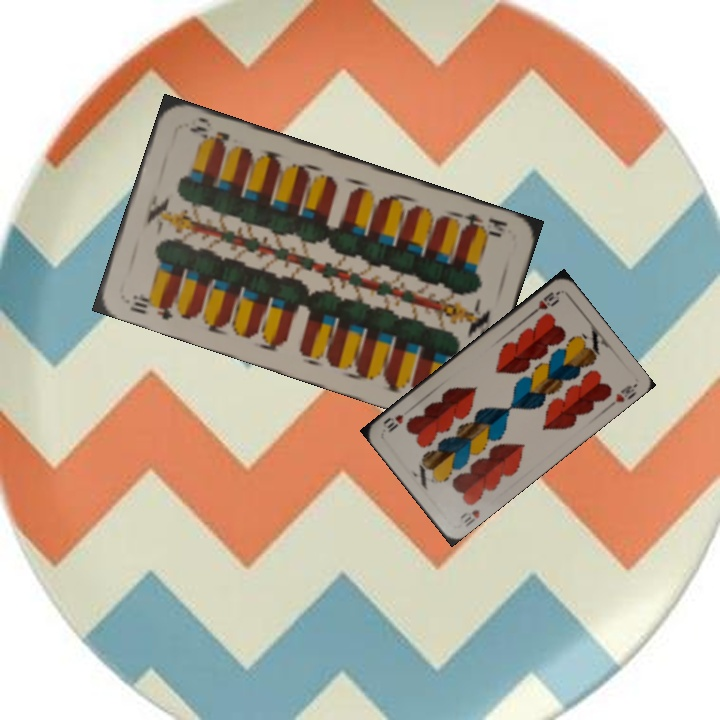E10: (125, 289, 176, 323), (455, 209, 510, 240)
H10: (527, 287, 562, 318), (456, 505, 482, 529)
